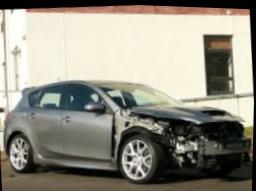Bonnet: (121, 101, 245, 129)
Bumper: (164, 128, 253, 176)
Fender: (112, 113, 168, 169)
